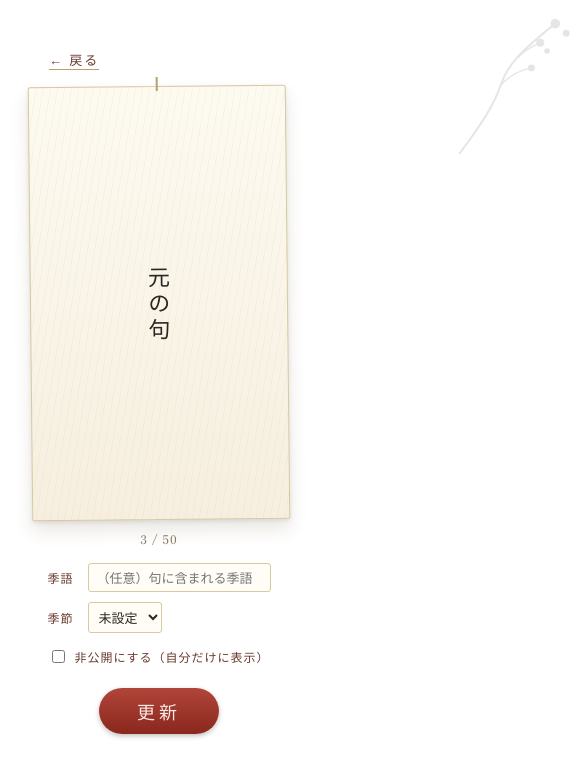
Test case: Edit.vue › 季語が本文に含まれていないサーバーエラーの場合、エラーメッセージを表示する(異常系)
Type "桜" into the field with id "kigo" at [179, 578], box [88,563,270,592]
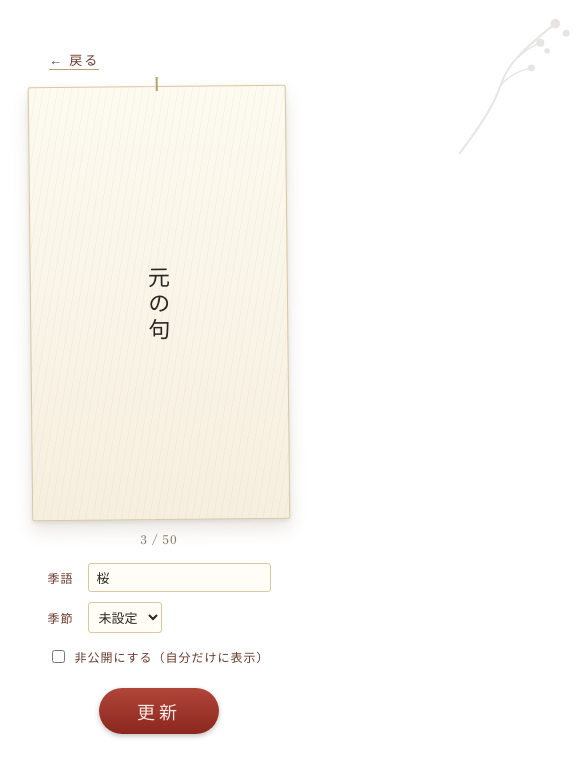
Click the button "更新" at [159, 711], box [99,688,219,734]
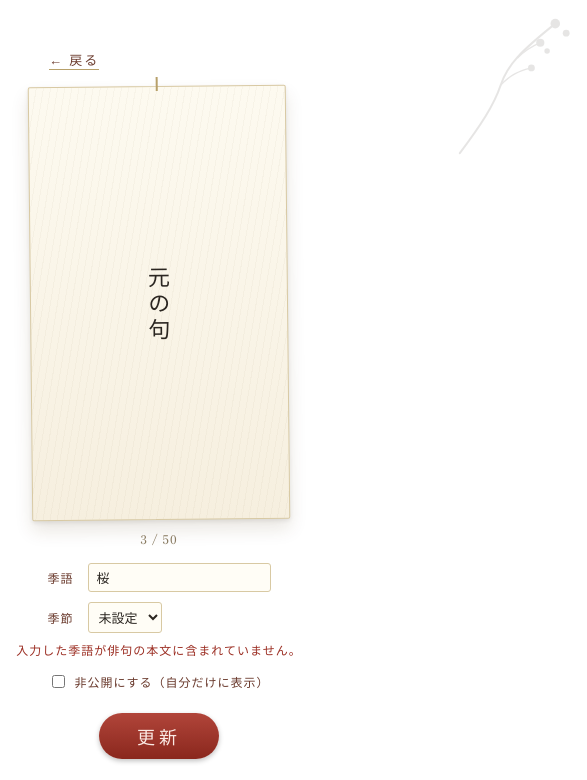
Result: the text with class "kigo-error" reads "入力した季語が俳句の本文に含まれていません。" at [16,641,302,658]
